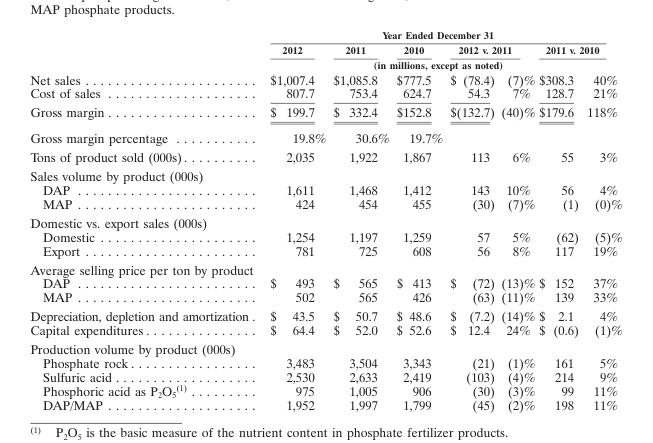table: (29, 28, 621, 411)
table column: (29, 28, 258, 411), (258, 28, 329, 411), (329, 28, 392, 411), (392, 28, 445, 411), (445, 28, 497, 411), (536, 28, 582, 411), (497, 28, 536, 411), (582, 28, 621, 411)
table column header: (29, 28, 621, 86)
table projected row header: (29, 212, 621, 229), (29, 259, 621, 276), (29, 166, 621, 182), (29, 339, 621, 355)
table row: (29, 124, 621, 147), (29, 102, 621, 124), (29, 147, 621, 166), (29, 212, 621, 229), (29, 259, 621, 276), (29, 289, 621, 306), (29, 322, 621, 339), (29, 86, 621, 102), (29, 166, 621, 182), (29, 196, 621, 212), (29, 243, 621, 259), (29, 306, 621, 322), (29, 339, 621, 355), (29, 42, 621, 57), (29, 71, 621, 86), (29, 28, 621, 42), (29, 57, 621, 71), (29, 182, 621, 196), (29, 229, 621, 243), (29, 355, 621, 369), (29, 369, 621, 383), (29, 383, 621, 397), (29, 397, 621, 411), (29, 276, 621, 289)
table spanning cell: (29, 28, 258, 86), (258, 28, 621, 42), (258, 57, 621, 71), (445, 42, 536, 57), (536, 42, 621, 57)
